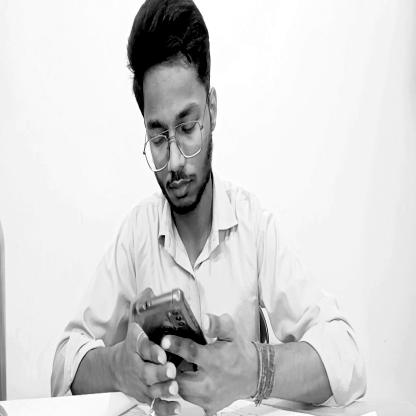Distracted: (131, 0, 220, 223)
